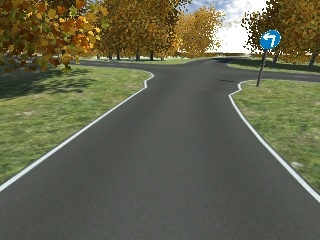TLeft: (259, 28, 282, 51)
